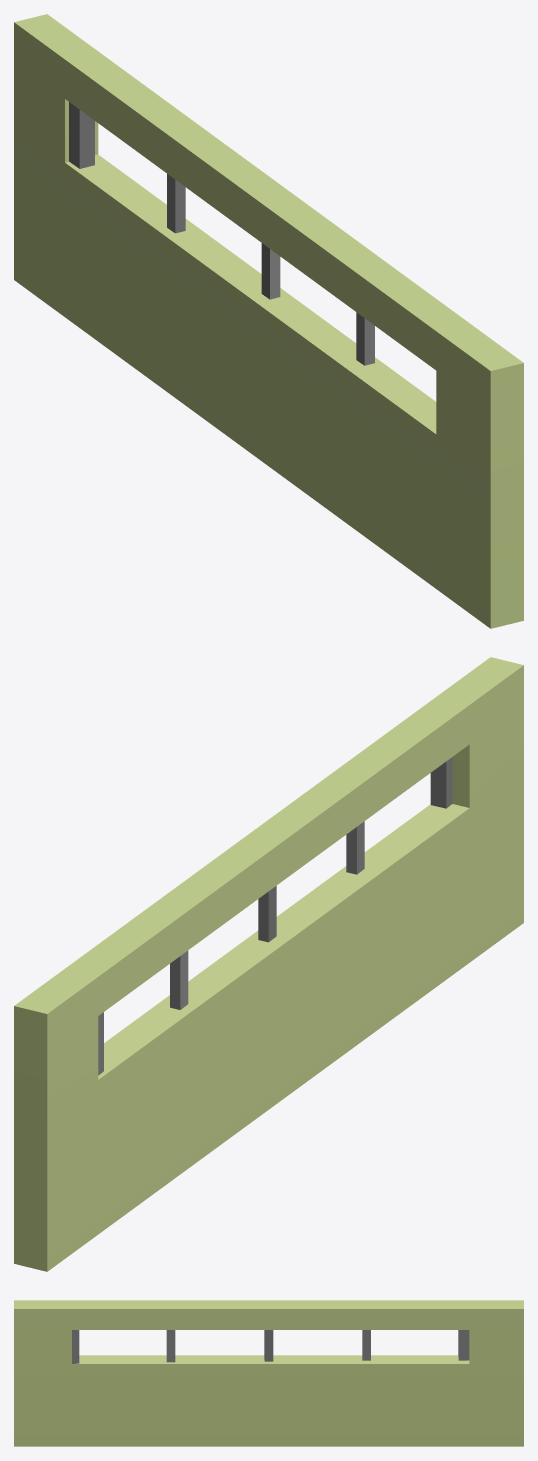
File: paredventanaBueno.fbx
3 renders of one model, top to bottom at view 1: azimuth 30°, elevation 25°; view 2: azimuth 150°, elevation 25°; view 3: azimuth 270°, elevation 25°, orthographic. The views are drawn at different scales.
Parts seen in each view (by area): view 1: Box005, Railing001; view 2: Box005, Railing001; view 3: Box005, Railing001.
Boxes of the visible parts, <box> form: Box005: <box>14,14,523,628</box>; Railing001: <box>69,102,374,365</box>; Box005: <box>14,657,523,1271</box>; Railing001: <box>98,757,452,1075</box>; Box005: <box>14,1300,523,1446</box>; Railing001: <box>72,1330,469,1363</box>.
Size of the model in its own units: 57.05 by 422 by 1414.
